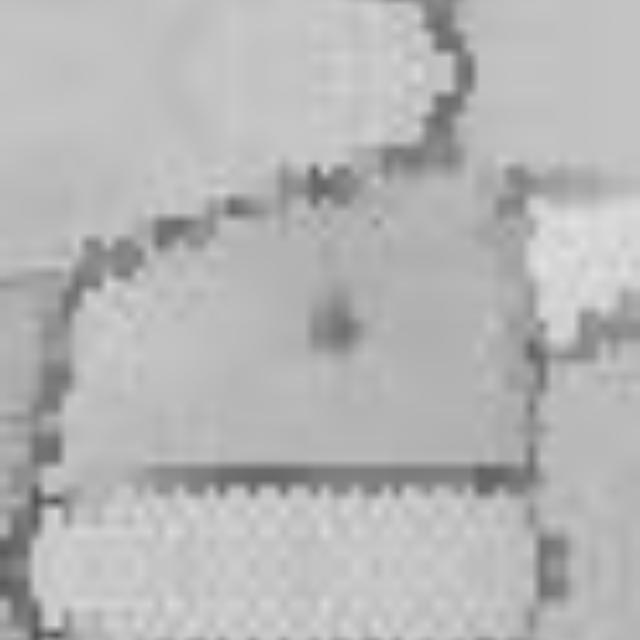good_void: (307, 294, 366, 359)
